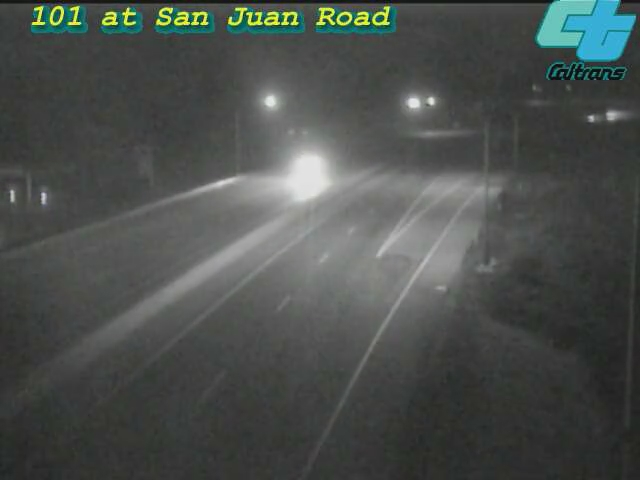vehicle: (264, 133, 344, 213), (591, 91, 640, 141)
